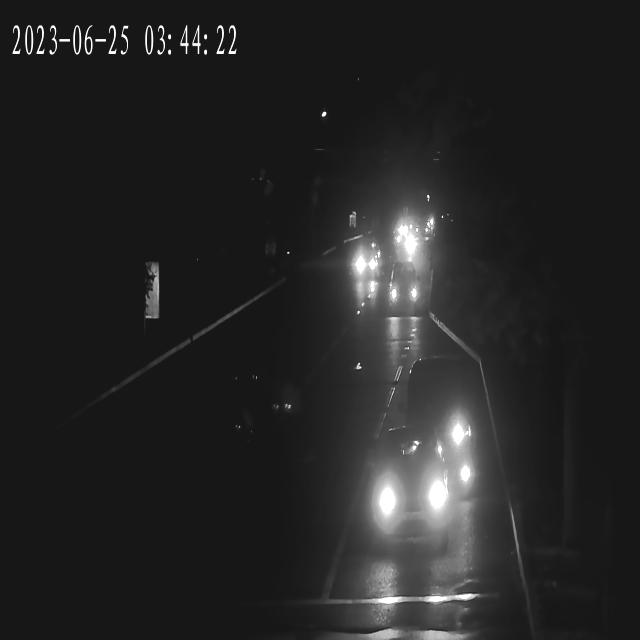Car: (402, 347, 478, 501), (367, 451, 453, 534), (389, 273, 424, 315), (348, 249, 381, 282), (398, 228, 420, 260), (390, 206, 412, 233)
